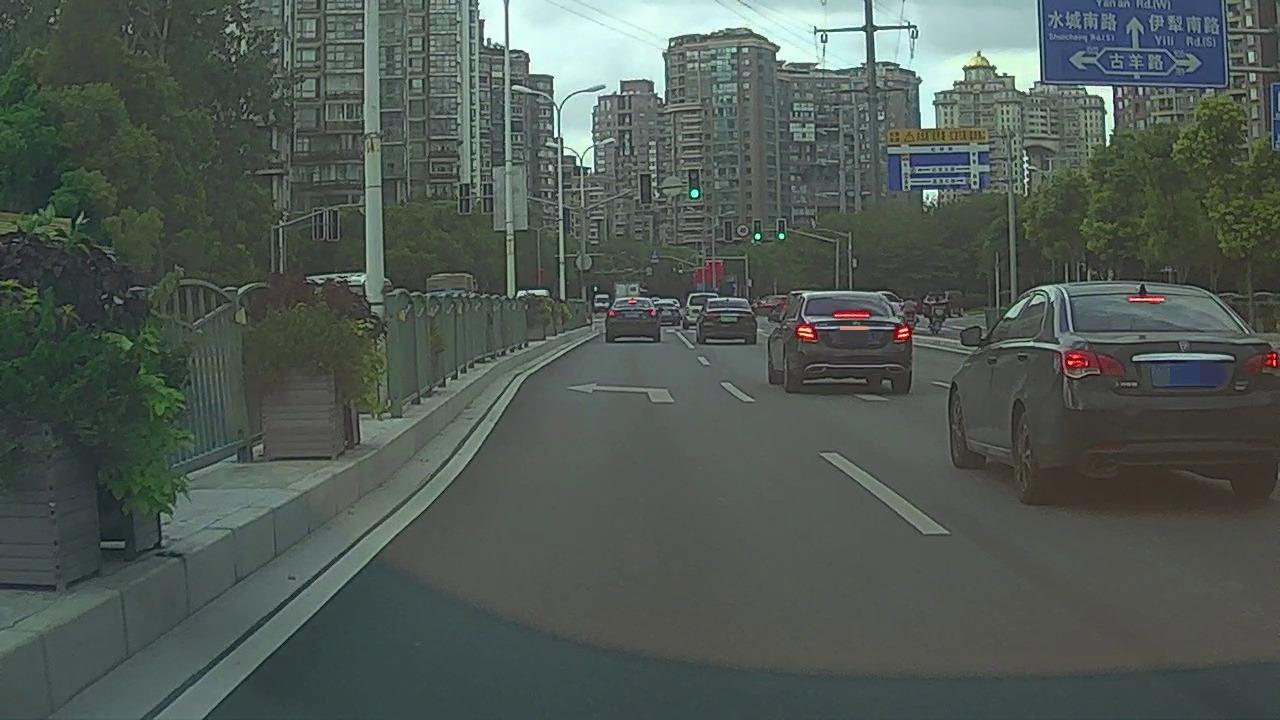traffic_light: (640, 173, 651, 203), (689, 170, 700, 199), (777, 220, 786, 242), (753, 221, 762, 241), (725, 220, 732, 241)
